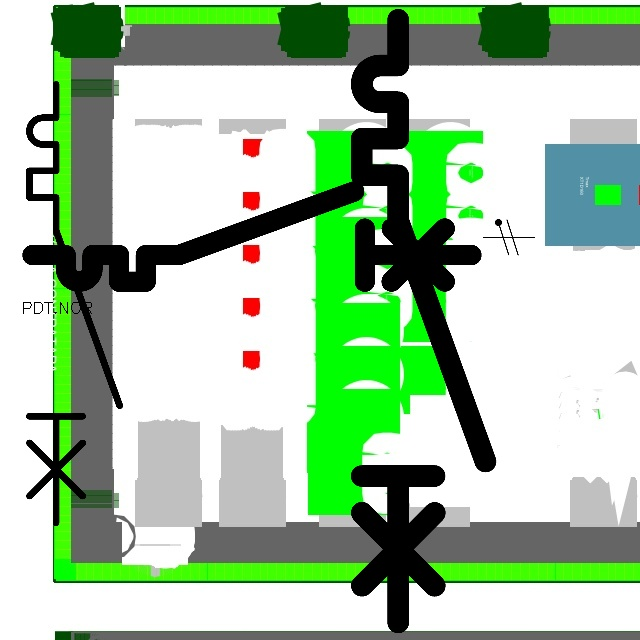interruptor_termomagnetico: (346, 4, 501, 637), (21, 180, 483, 293), (18, 73, 131, 534)
